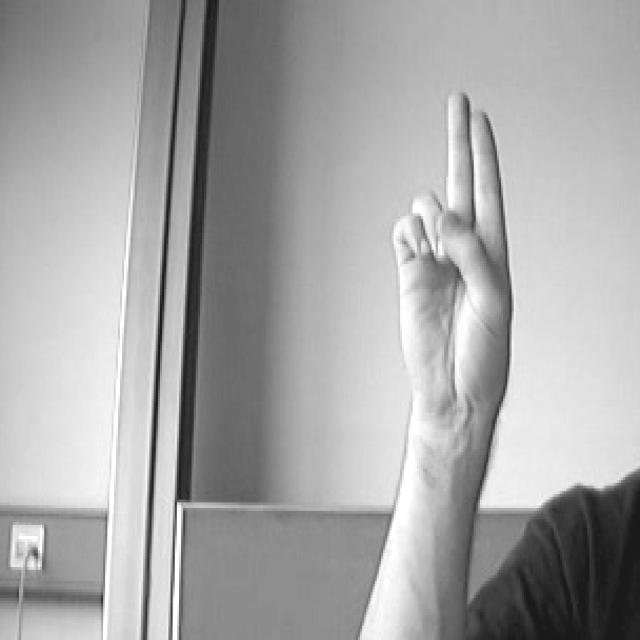U: (390, 77, 519, 435)
